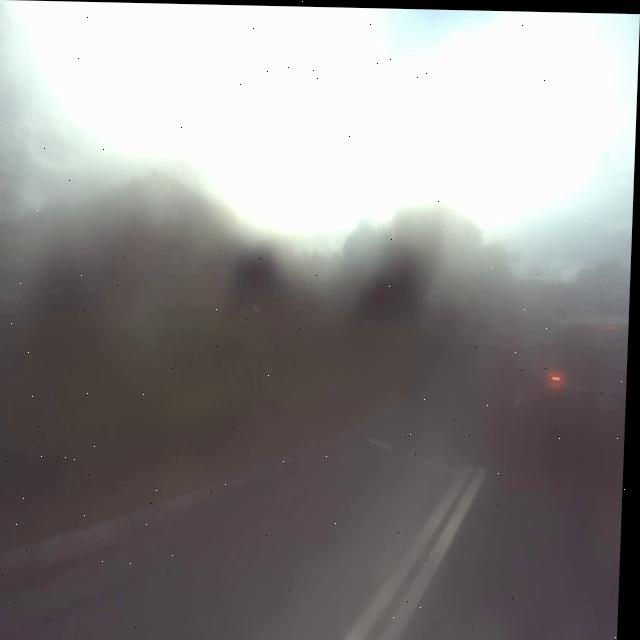car: (529, 290, 632, 473)
